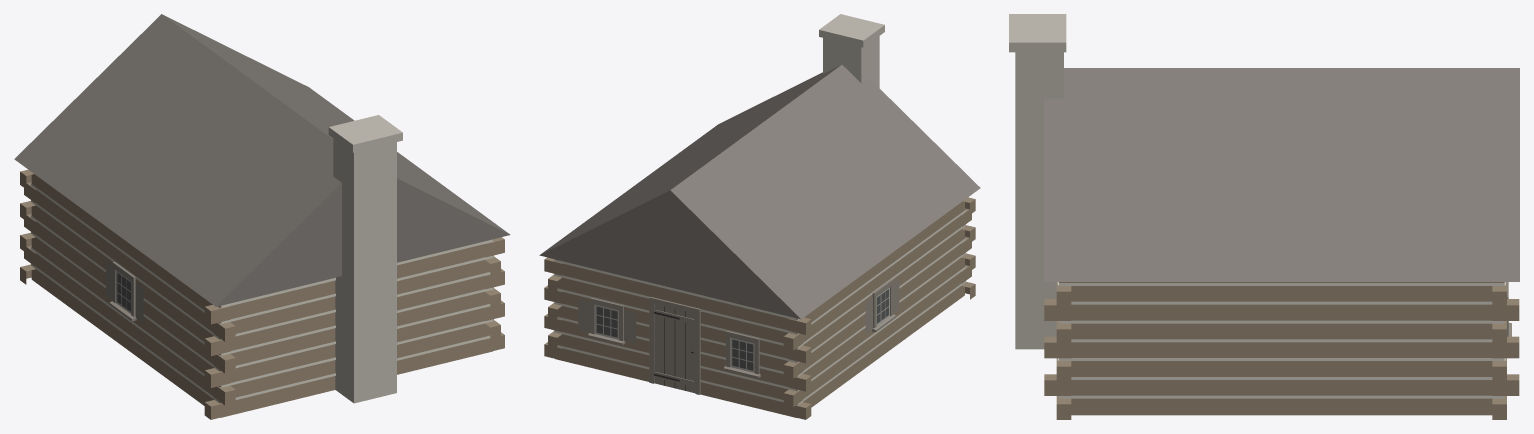
The model's file is recon_1835_west_040__inferred_1835.glb.
The picture shows the model from 3 angles, left to right: view 1: azimuth 30°, elevation 25°; view 2: azimuth 150°, elevation 25°; view 3: azimuth 270°, elevation 25°; orthographic projection. The views are drawn at different scales.
Visible parts, largest first — view 1: recon_1835_west_040__inferred_1835; view 2: recon_1835_west_040__inferred_1835; view 3: recon_1835_west_040__inferred_1835.
Part boxes in pixels (<box>): recon_1835_west_040__inferred_1835: <box>14,14,510,419</box>; recon_1835_west_040__inferred_1835: <box>539,14,980,419</box>; recon_1835_west_040__inferred_1835: <box>1009,14,1519,419</box>.
Bounding box in the file's own units: 6.6 × 5.59 × 8.39.
